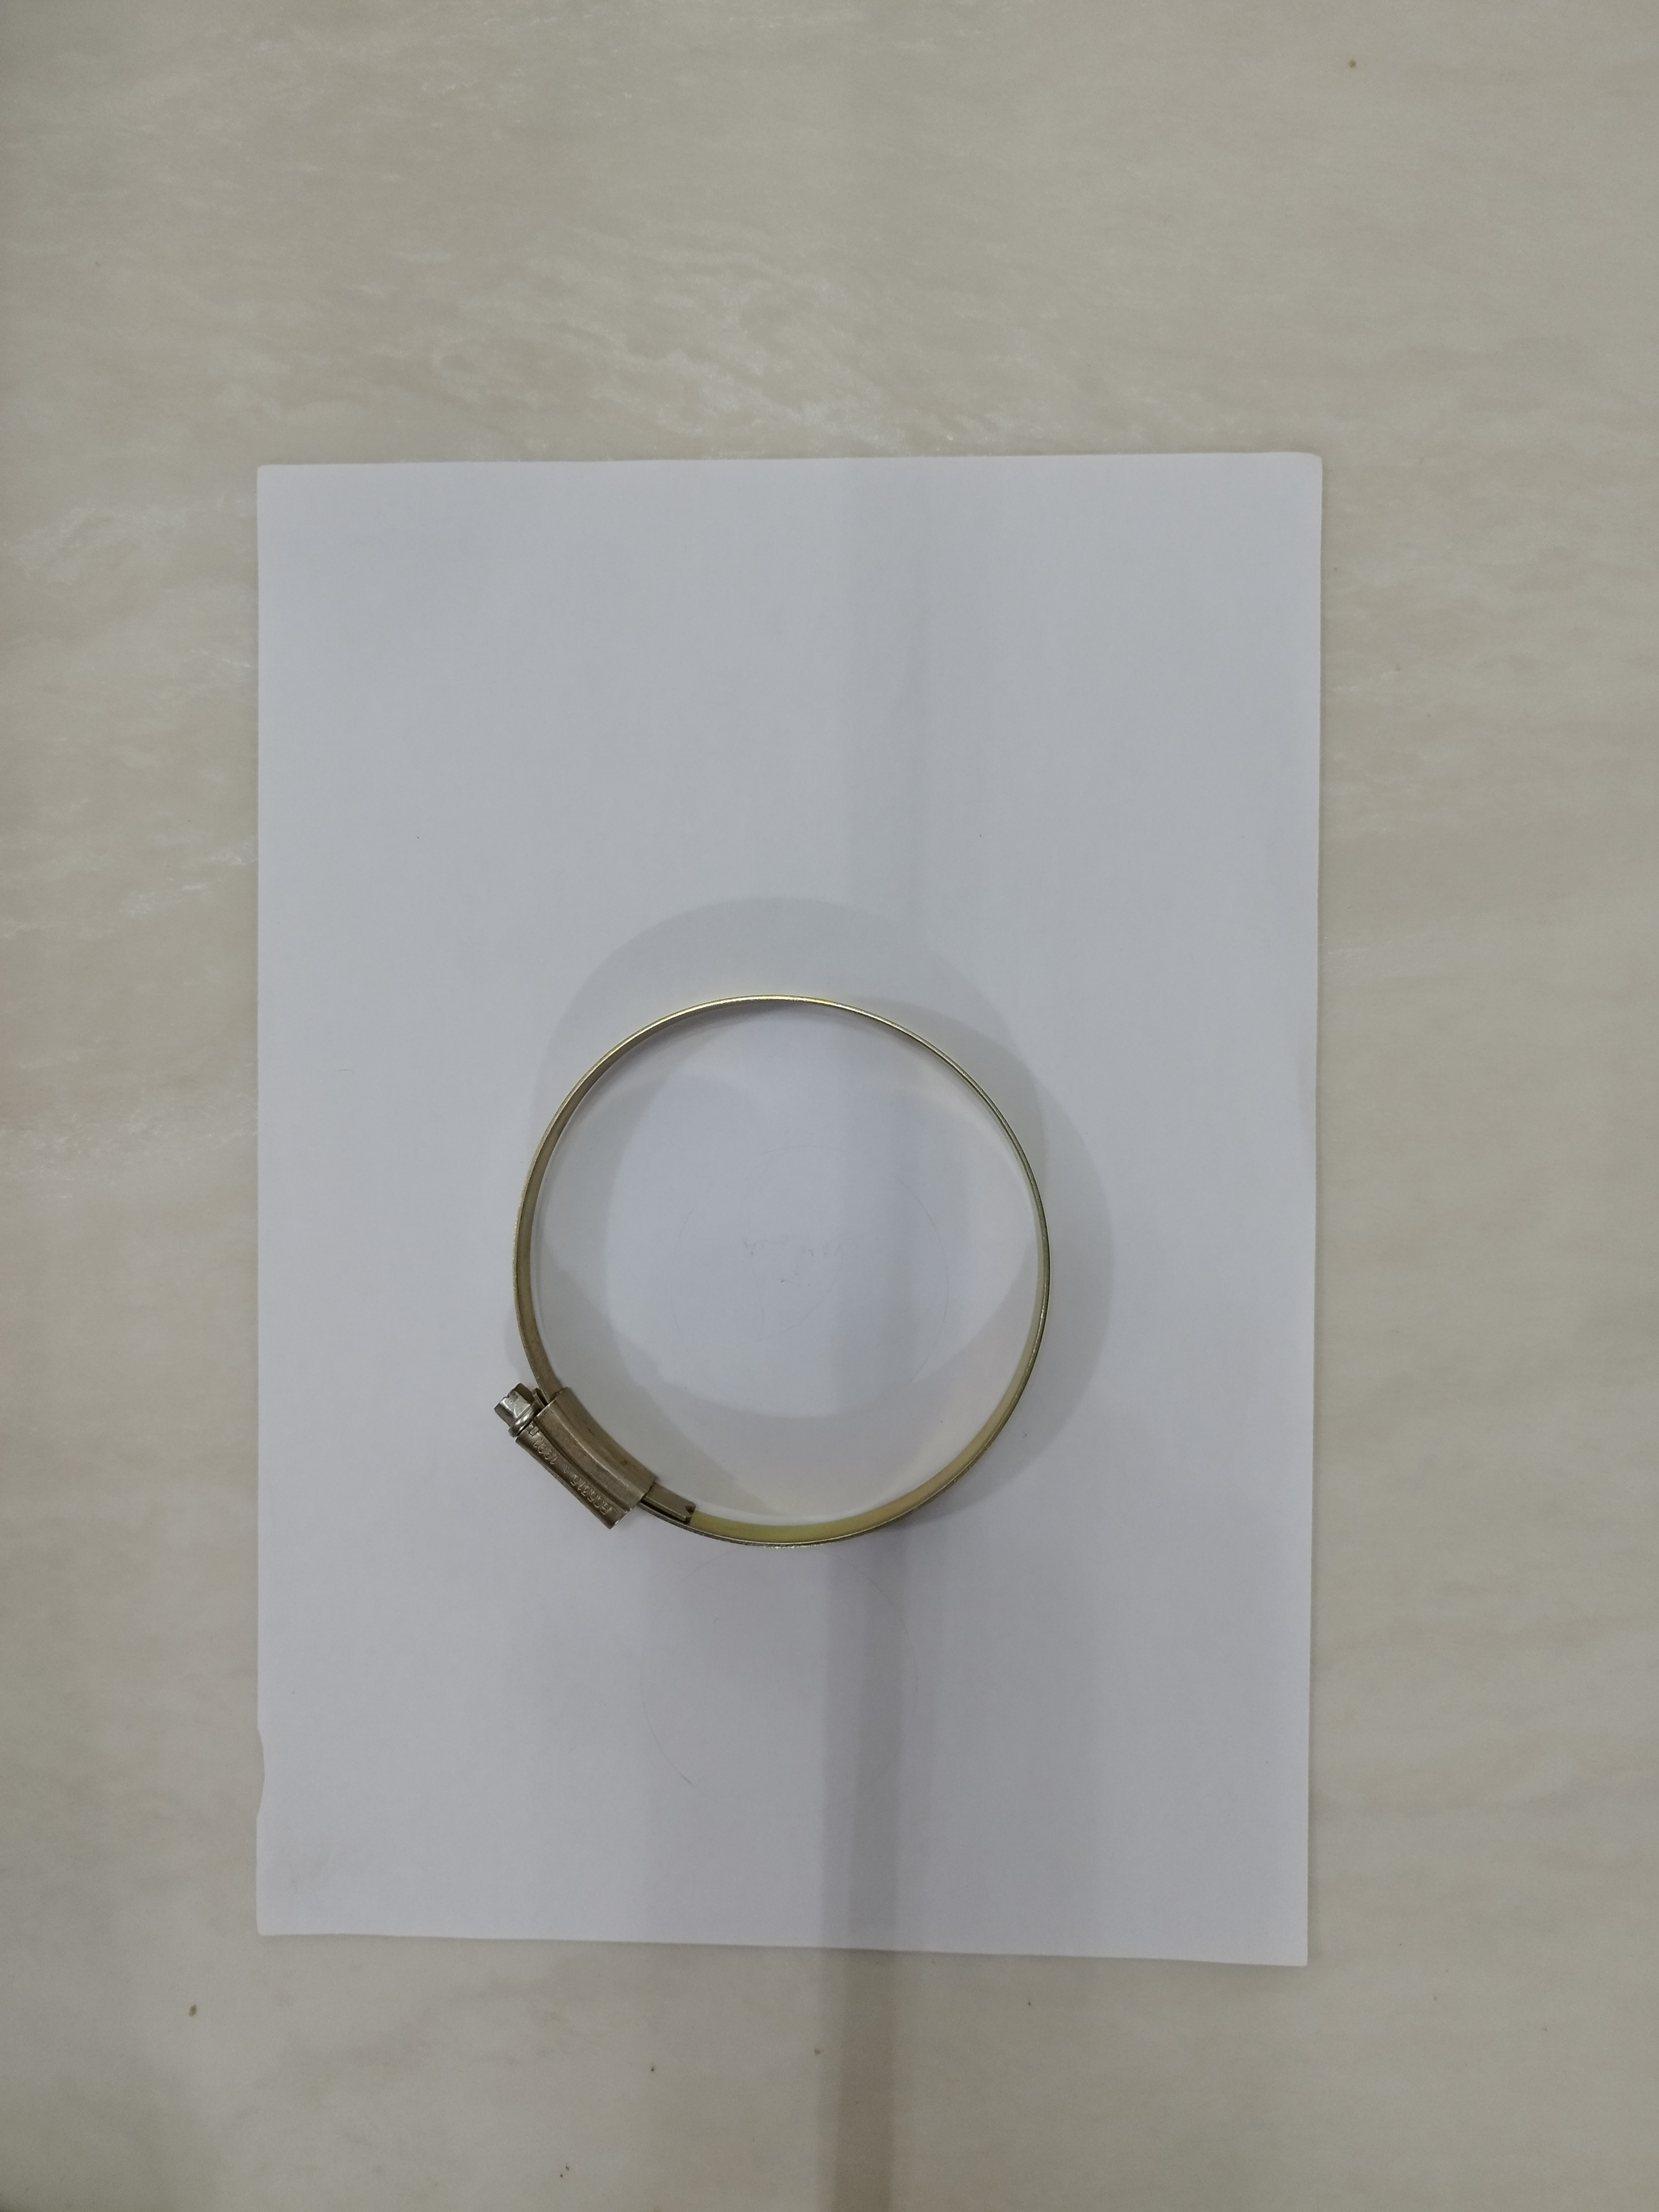ring_clamp: (450, 984, 1080, 1576)
